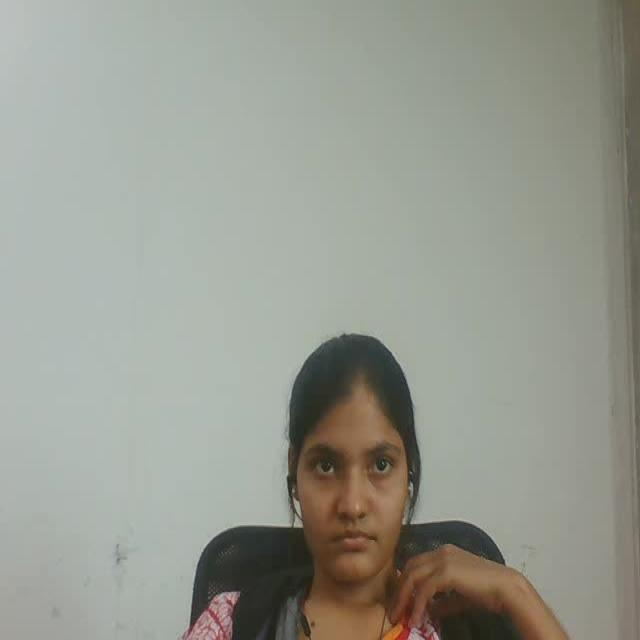Engaged: (250, 297, 435, 607)
